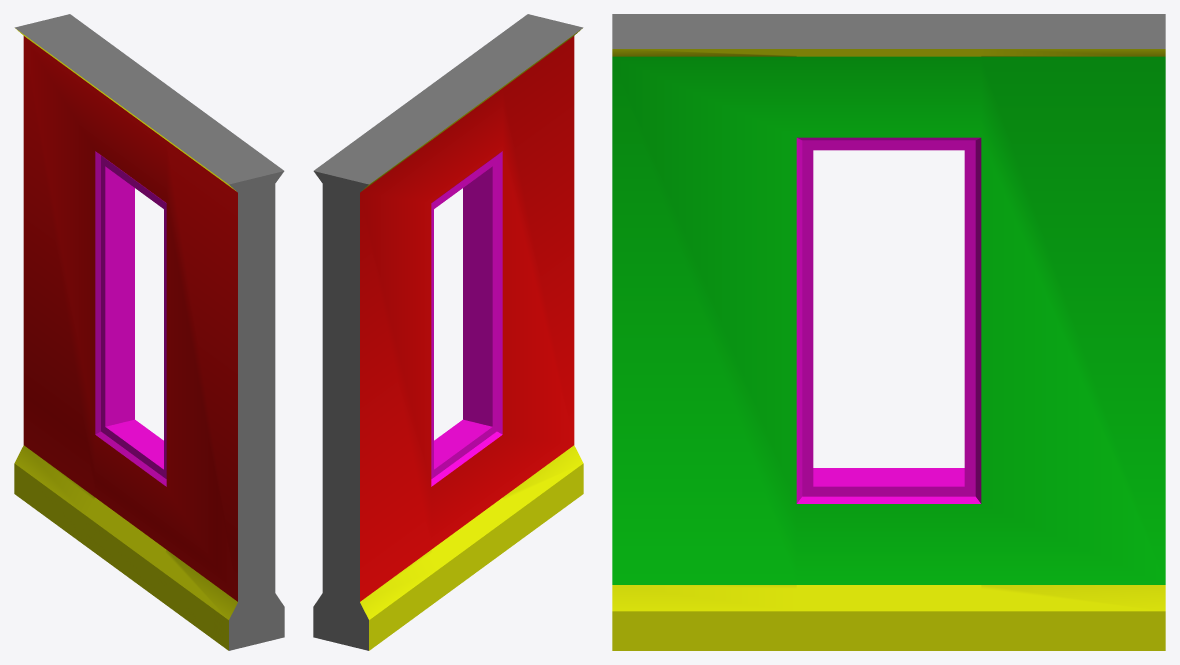
Rendered from ModularWindowSmall.FBX.
The picture shows the model from 3 angles, left to right: view 1: azimuth 30°, elevation 25°; view 2: azimuth 150°, elevation 25°; view 3: azimuth 270°, elevation 25°; orthographic projection. The views are drawn at different scales.
Visible parts, largest first — view 1: ModularWindowSmall; view 2: ModularWindowSmall; view 3: ModularWindowSmall.
Part boxes in pixels (x1,y1,x2,y2): ModularWindowSmall: (14, 14, 284, 650); ModularWindowSmall: (313, 14, 583, 650); ModularWindowSmall: (612, 14, 1165, 650).
Bounding box in the file's own units: 15 × 120 × 100.
